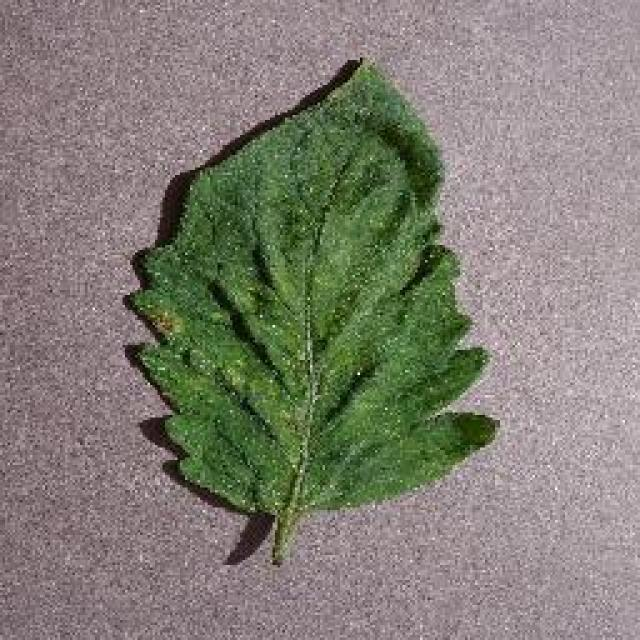Tomato mosaic virus leaf: (110, 54, 518, 534)
